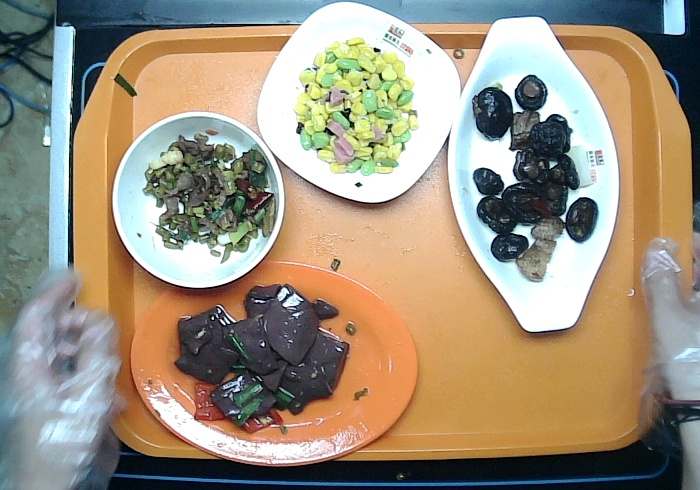NLDX-Bai_Se_Xiao_Fang_Die: (253, 1, 465, 205)
NLDX-Fan_Wan: (110, 109, 286, 292)
NLDX-Ju_Se_Pan: (125, 257, 420, 471)
NLDX-Yu_Pan: (445, 14, 622, 334)
